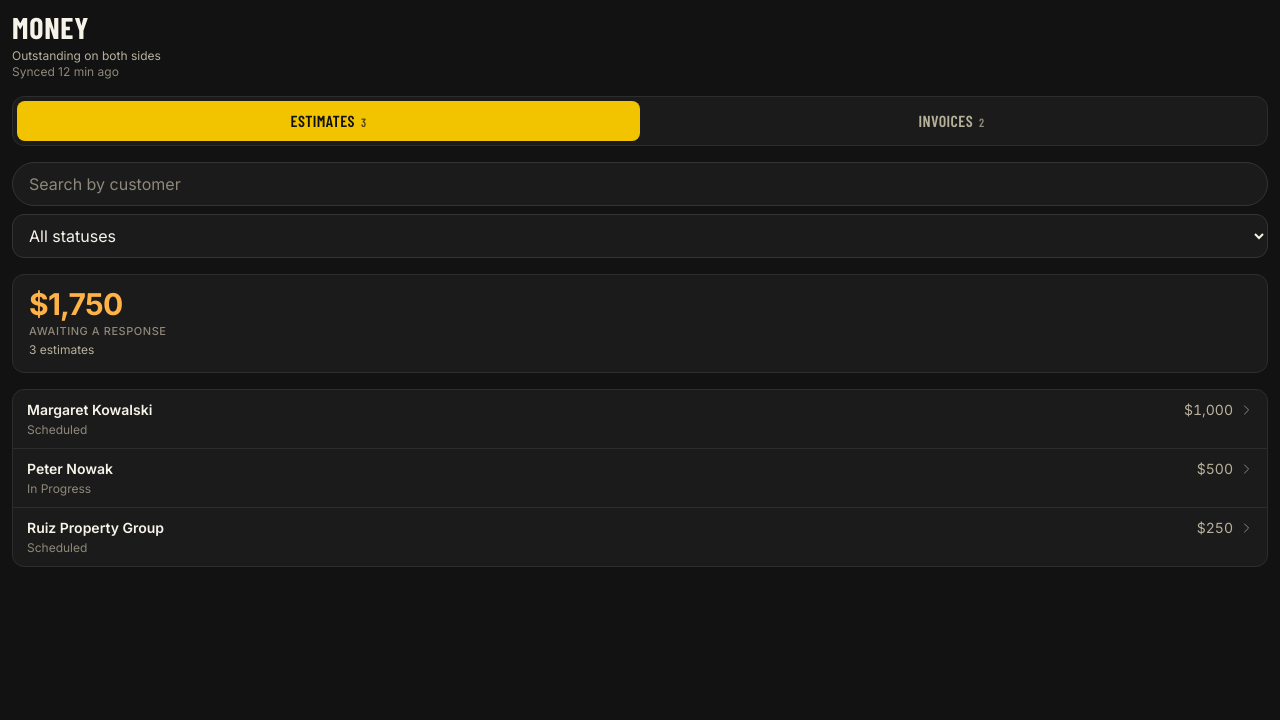
Test: MoneyPage filtering › filters estimates by their status
Check: the text "Margaret Kowalski" is shown, box [27,400,152,420]
Step 1. Select "In Progress" in the dropdown named "Filter by status" → (640, 236), box [12,214,1268,258]
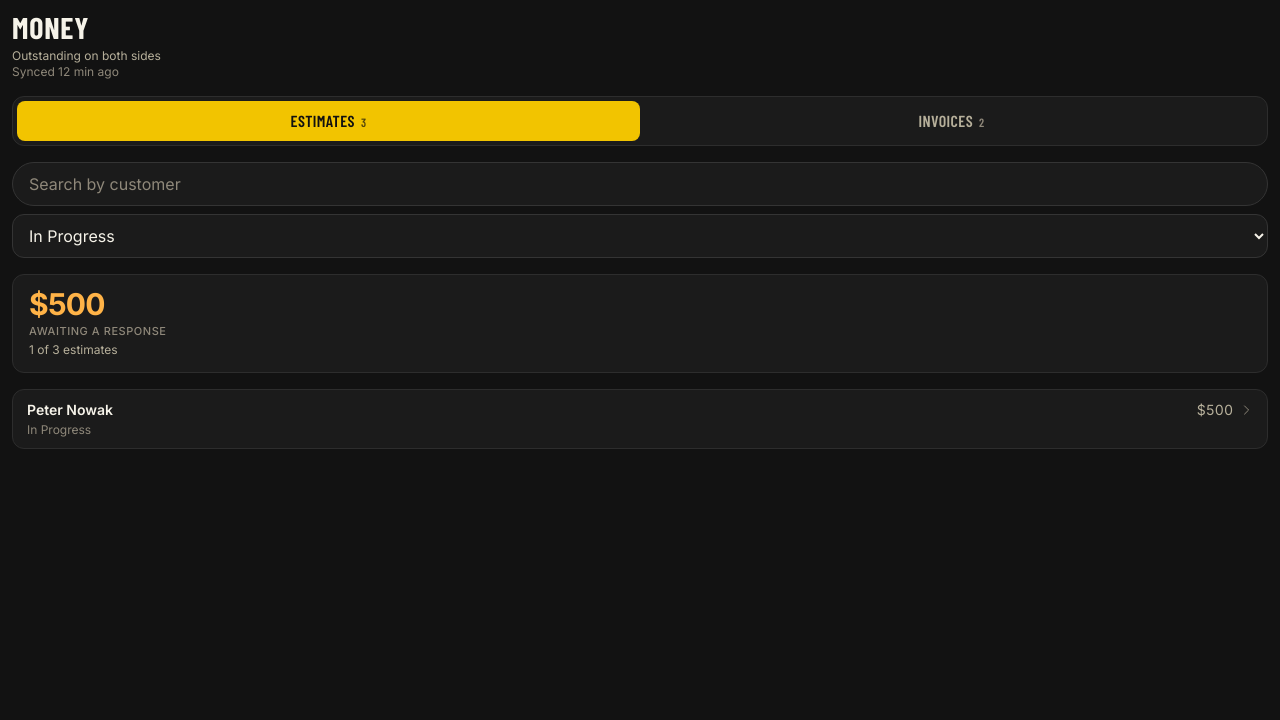
Check: the text "Peter Nowak" is shown, box [27,400,113,420]
Check: the link "Ruiz Property Group" is gone
